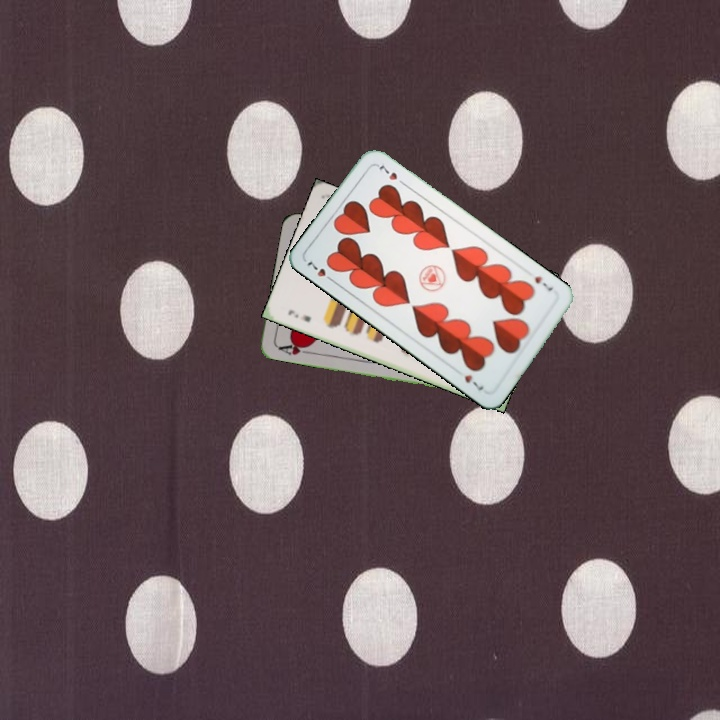E7: (284, 306, 314, 324)
H7: (303, 256, 337, 285), (530, 271, 556, 294)
HA: (274, 338, 314, 358)
